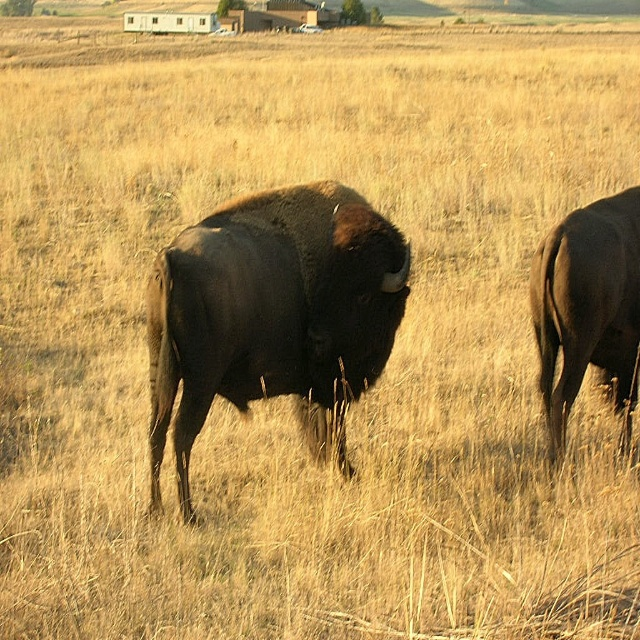Bull: (144, 178, 413, 530), (529, 184, 640, 508)
